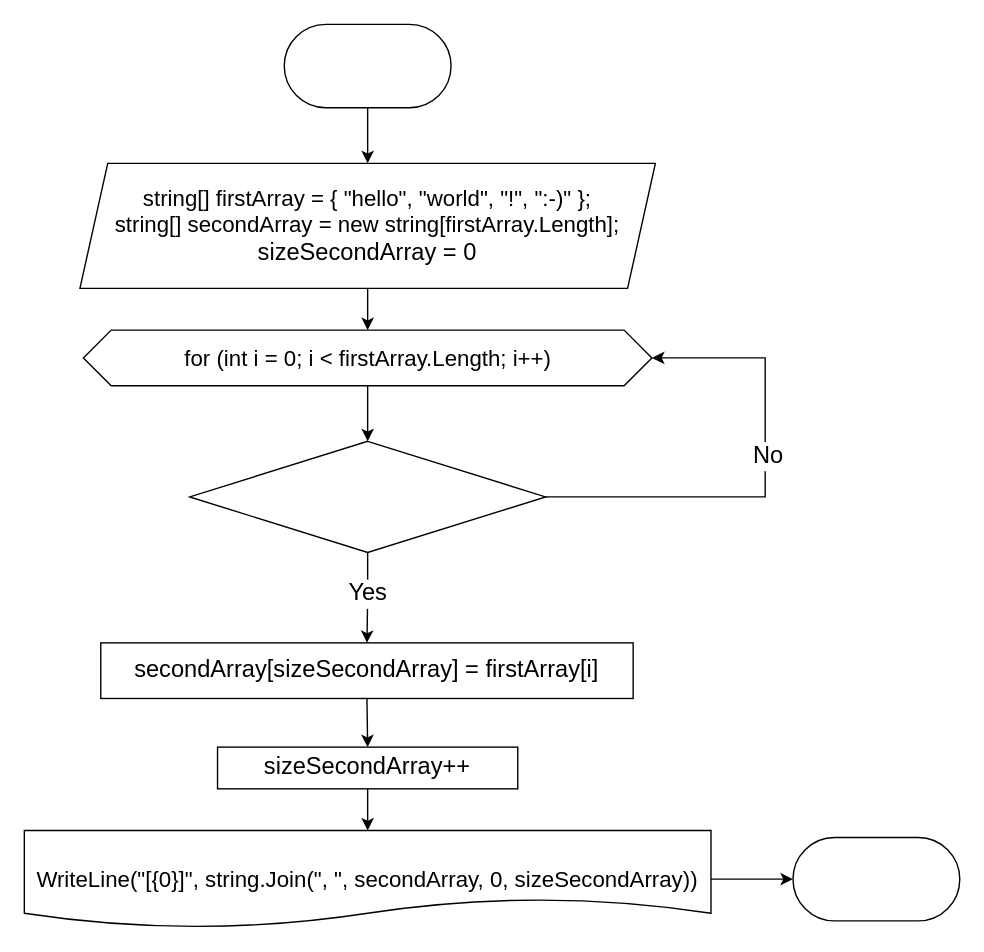
Image size: 984x952. Some labels were removed from this diagram. The centre of each missing label's shape, as x and y in pixels:
"End" goes at point (876, 878).
"firstArray[i].Length <= 3 ?" goes at point (367, 496).
"Start" goes at point (367, 65).
